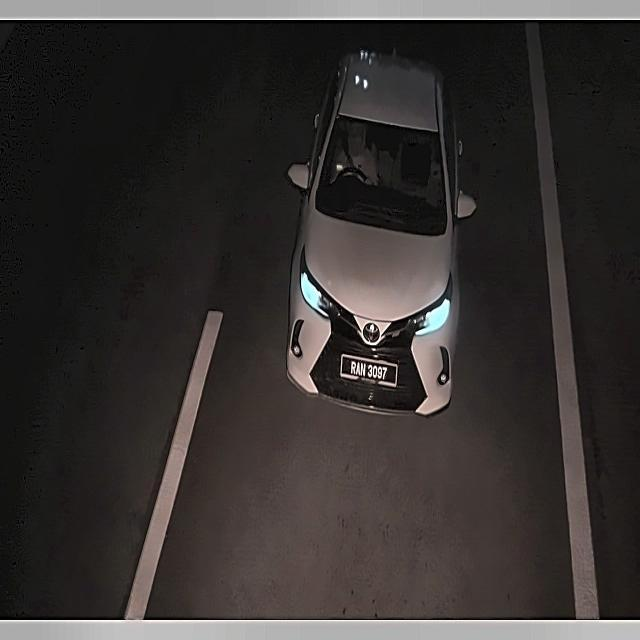car: (339, 353, 399, 394)
